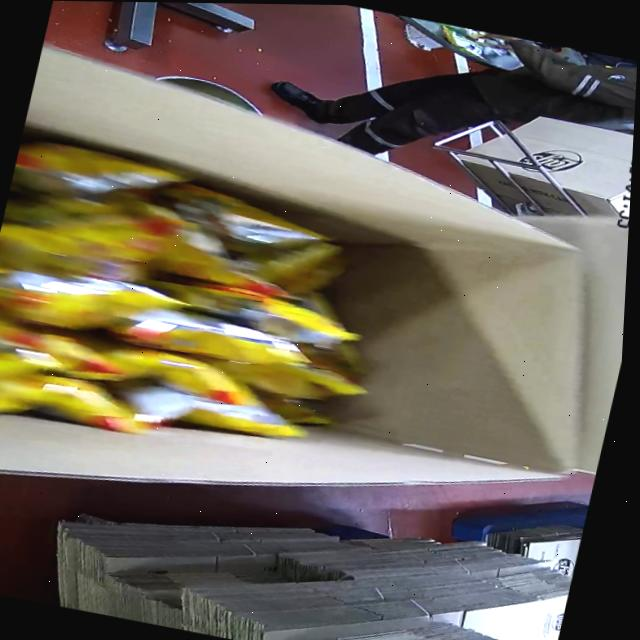SALTED: (0, 144, 412, 493)
